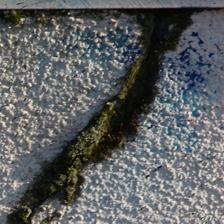Crack: (5, 4, 192, 215)
